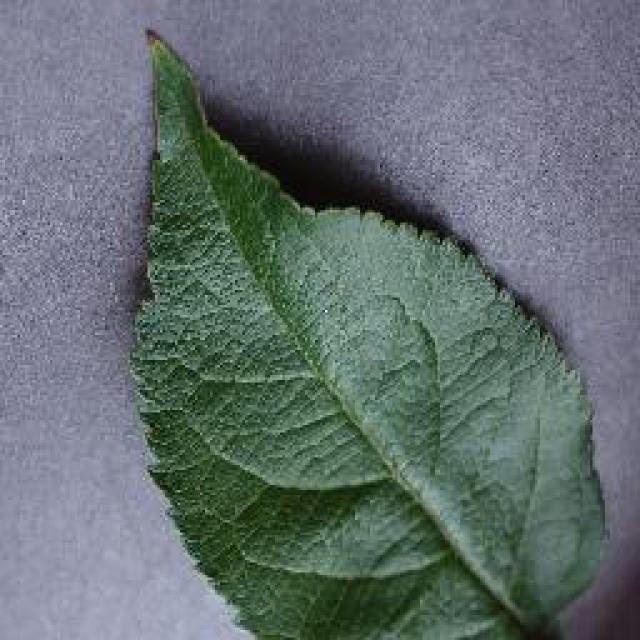apple healthy: (125, 25, 613, 637)
